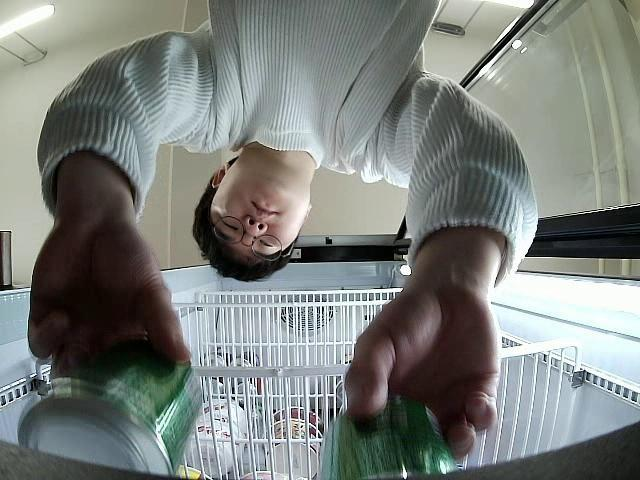12_chilsungCider: (20, 347, 202, 476), (316, 399, 461, 480)
